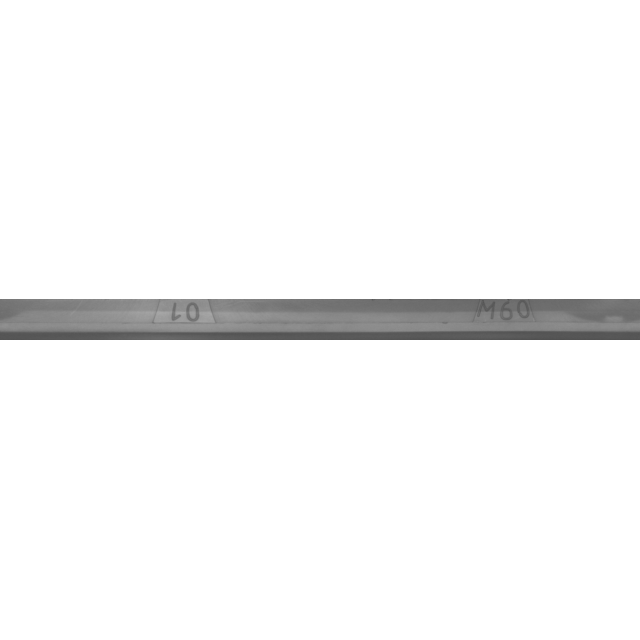mohao: (409, 270, 609, 370)
xuehao: (85, 270, 285, 370)
